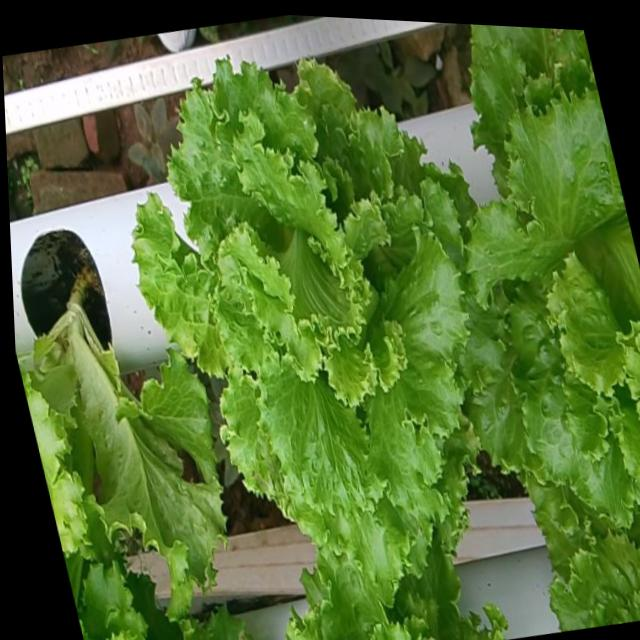Mature: (132, 45, 481, 575), (463, 71, 640, 519)
